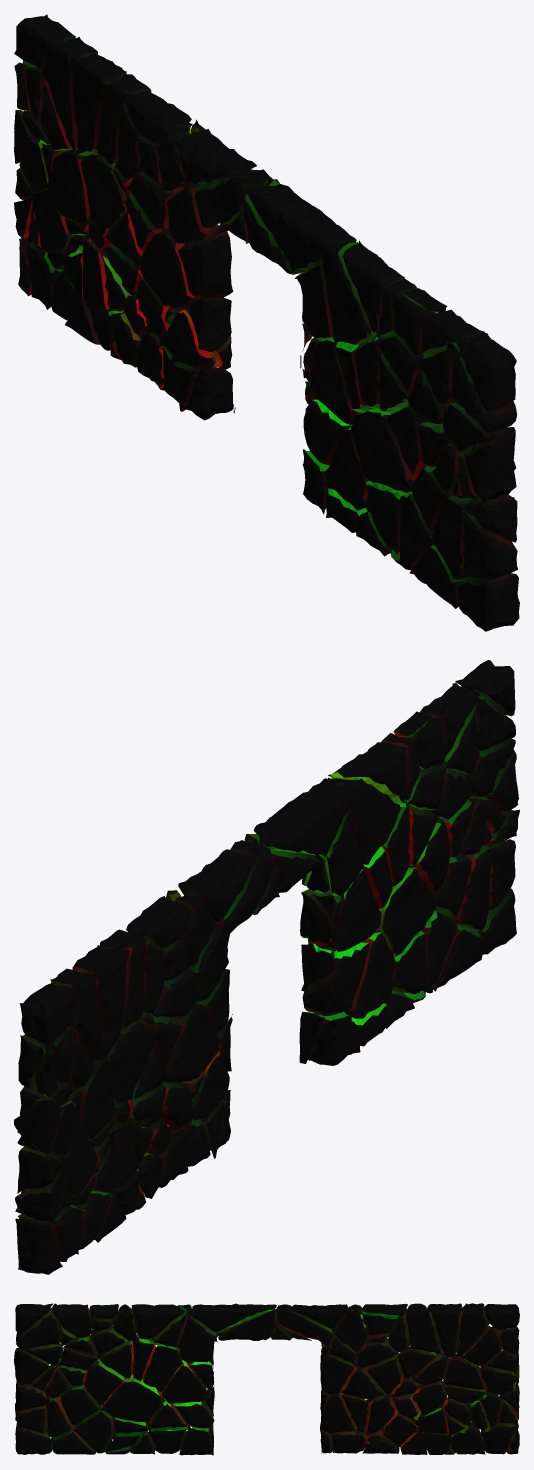
Rendered from DoorWall.FBX.
3 views of the same model, one above another, from view 1: azimuth 30°, elevation 25°; view 2: azimuth 150°, elevation 25°; view 3: azimuth 270°, elevation 25° (orthographic). The views are drawn at different scales.
Visible parts, largest first — view 1: Box002; view 2: Box002; view 3: Box002.
Boxes of the visible parts, <box> form: Box002: <box>14,14,519,631</box>; Box002: <box>14,660,519,1274</box>; Box002: <box>14,1303,519,1455</box>.
Size of the model in its own units: 7.03 by 45.31 by 141.
